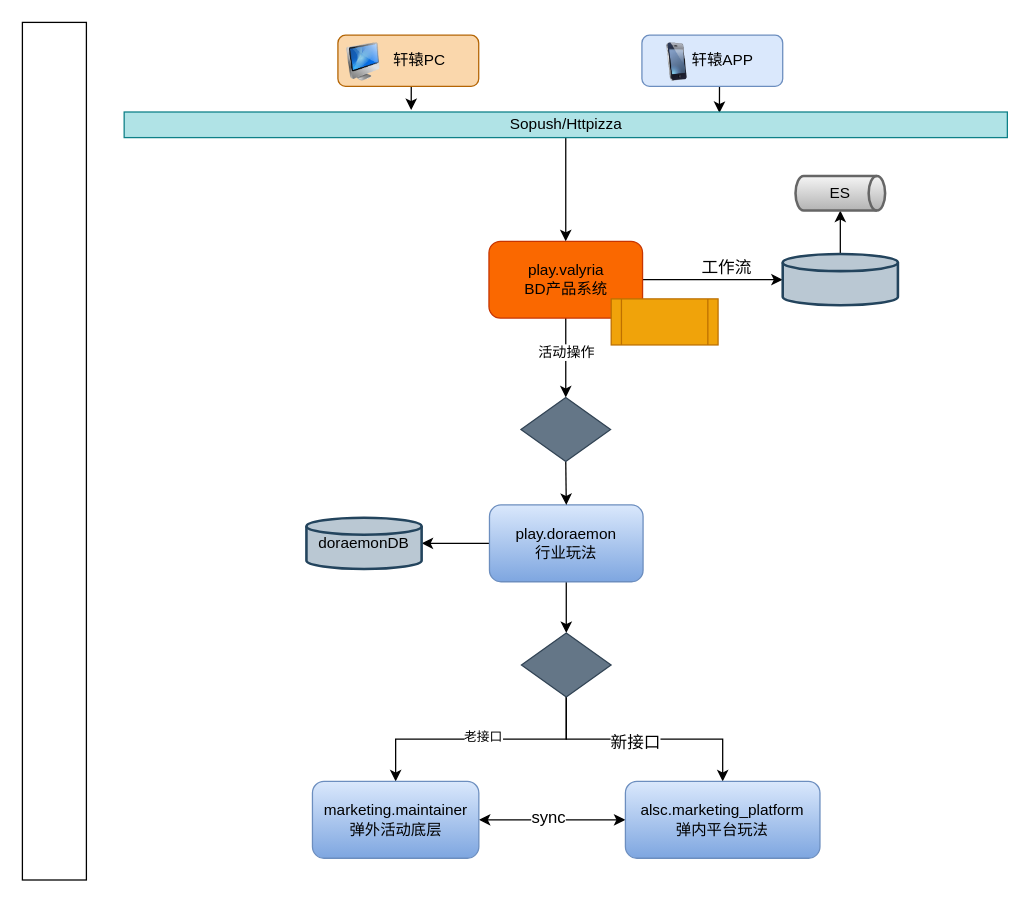
The diagram is 1030 pixels wide and 902 high, and some of its shapes have lost their labels. The shapes that lost their labels are listed below. From the top down, each one's box as (x1, y1, x2, y2) in pixels, then its label:
(781, 252, 899, 306): valyriaDB
(610, 298, 718, 345): 审核流
(520, 396, 611, 461): 灰度 判断
(21, 21, 86, 880): 新链路
(520, 632, 611, 697): 接口 分流
